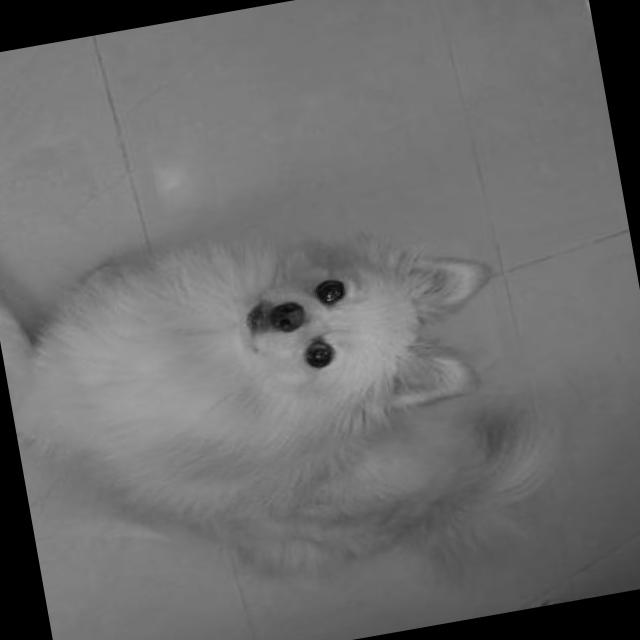laying down: (0, 95, 580, 640)
